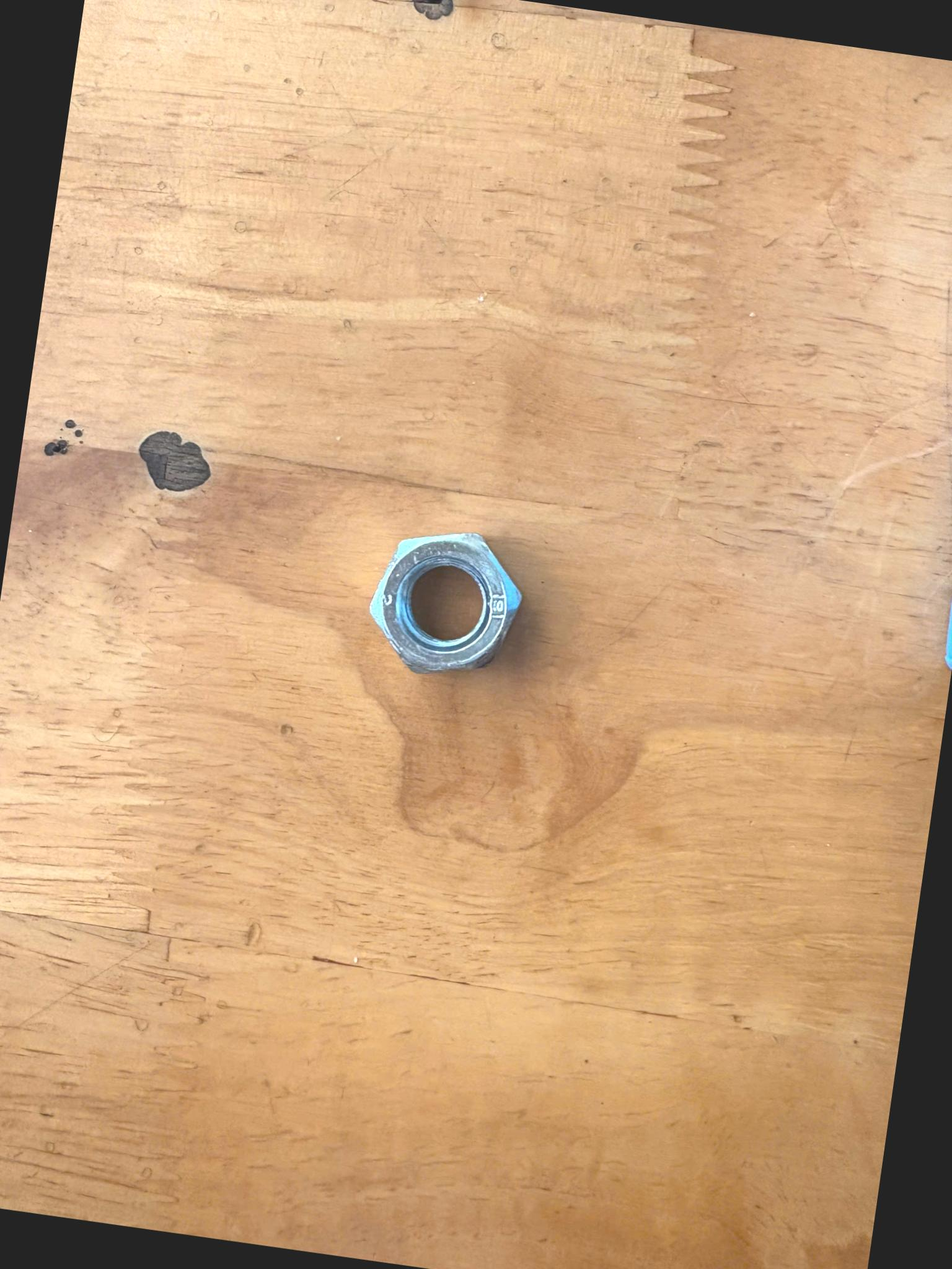nut: (351, 494, 560, 707)
